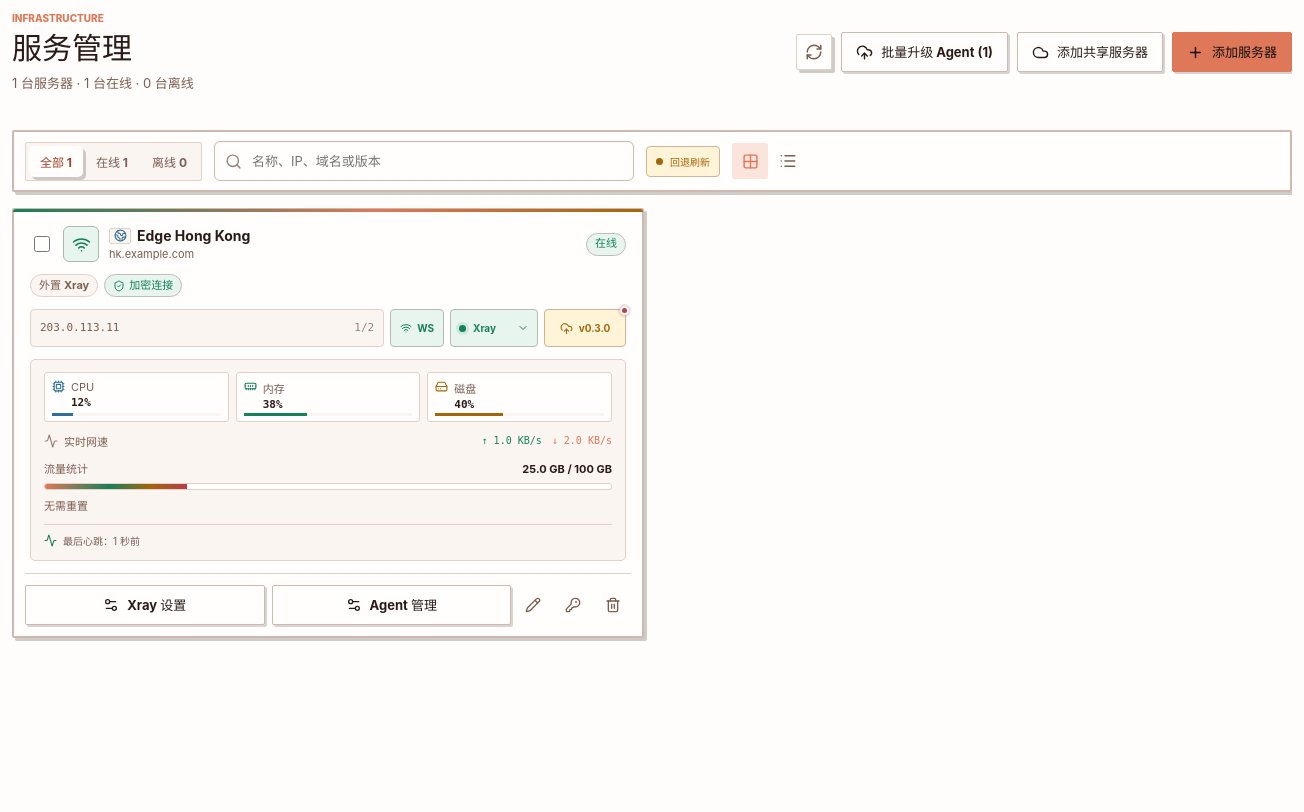
Scenario: service management workbench › keeps the rotating address, WS, Xray and Agent controls in one card row
Expected: the element with class "service-runtime-controls" is shown, [30,309,626,347]
Expected: the text "WS" is shown, [390,309,444,347]
Hover over the button with class "service-address" at [80, 328], box [30,309,384,347]
Wait 3000 ms
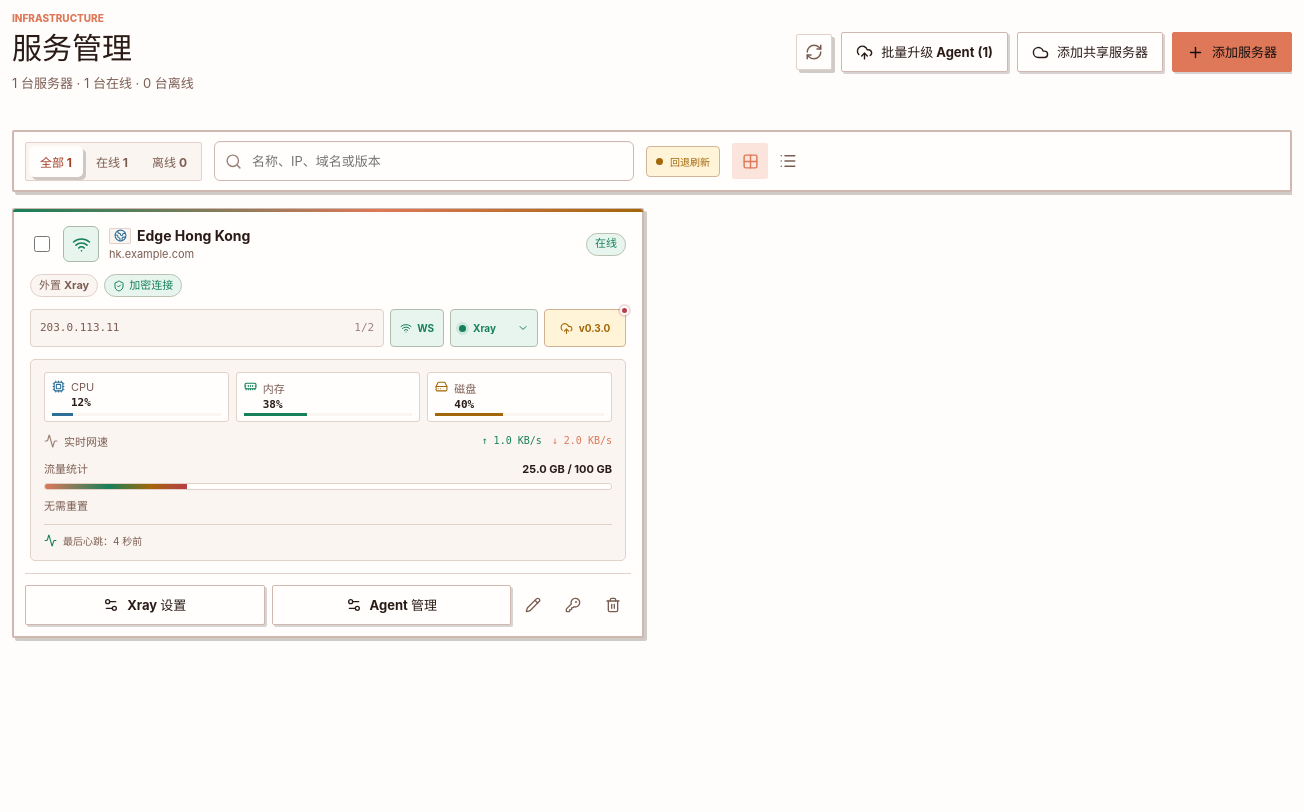
Move the pointer off the button with class "service-address", box [30,309,384,347]
Wait 3000 ms
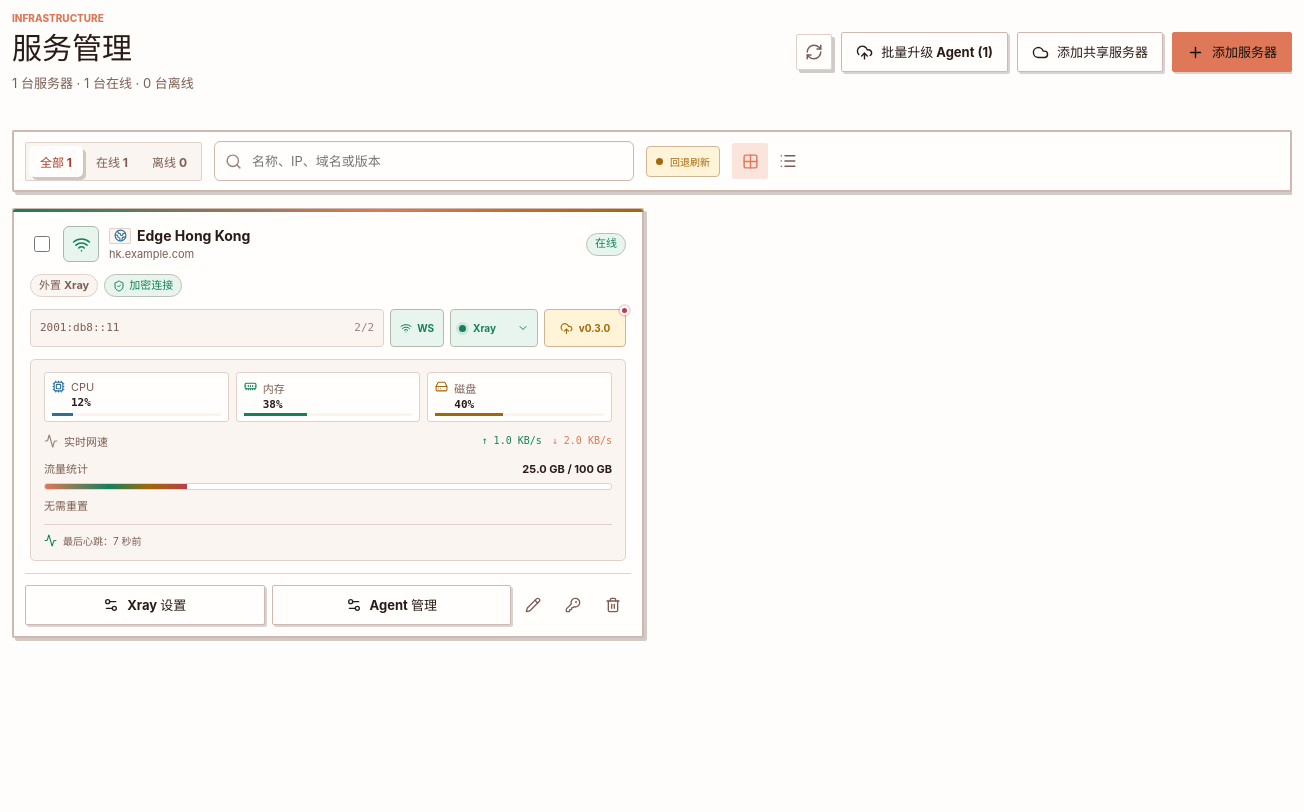
Result: the button with class "service-address" shows "2001:db8::11"
Result: the button with class "service-address" shows "2/2"
Click the button with class "service-address". click: [80, 328]
box: [30,309,384,347]
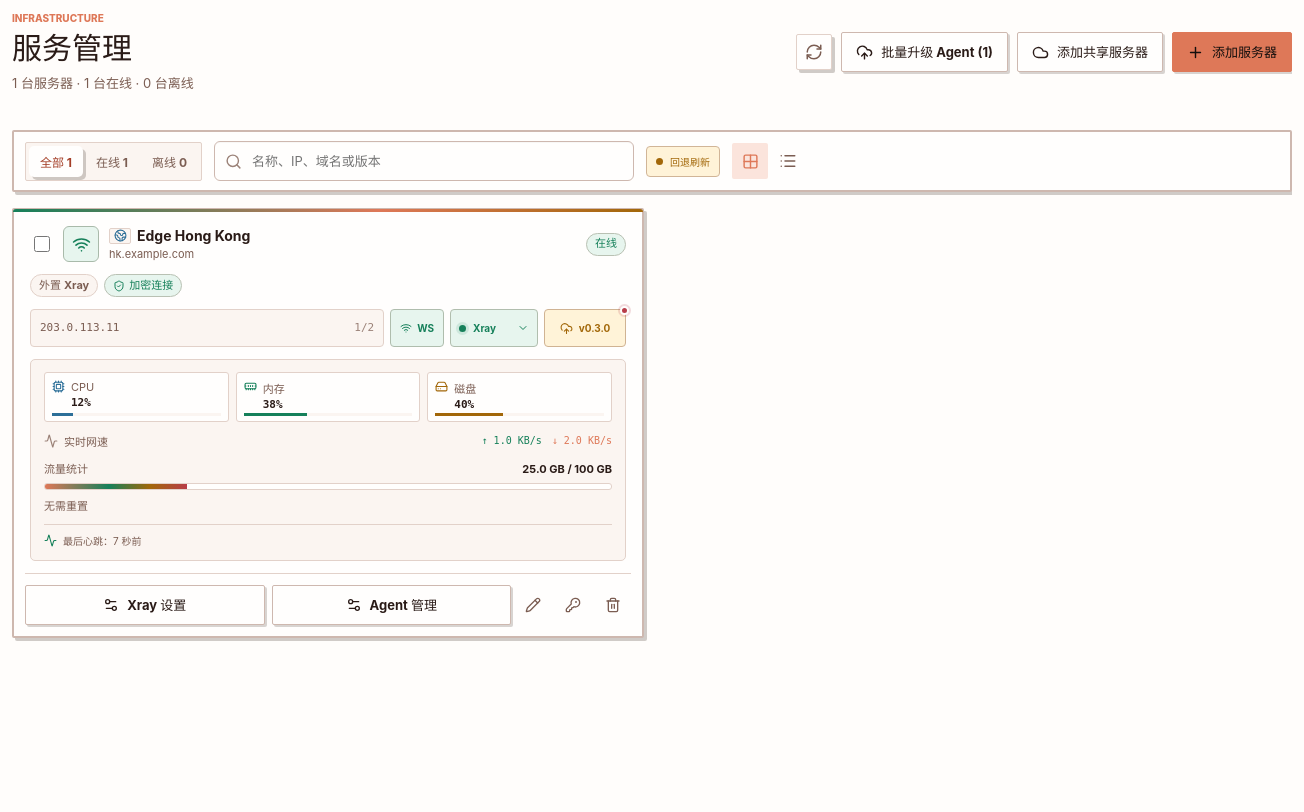
Result: the button with class "service-address" shows "203.0.113.11" at [30,309,384,347]
Result: the button with class "service-address" shows "1/2" at [30,309,384,347]
